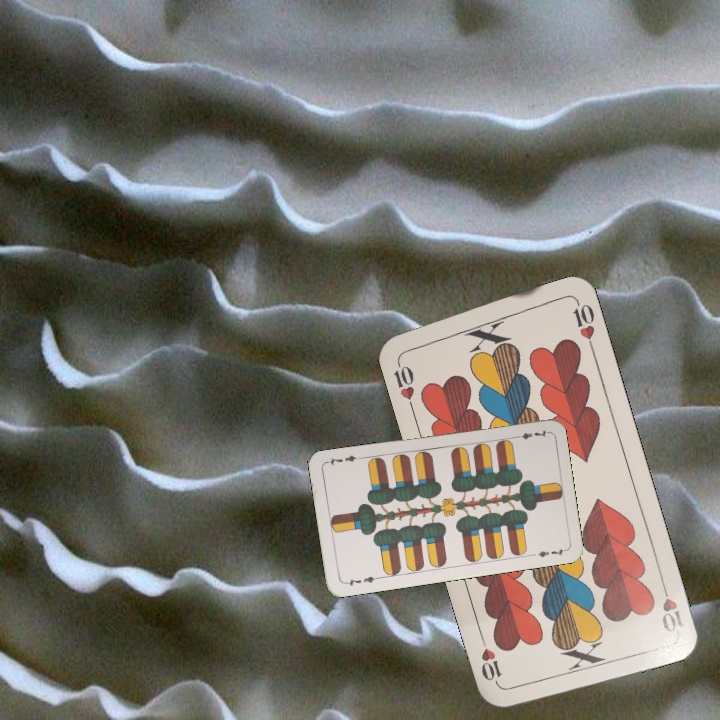E7: (340, 572, 381, 589), (509, 426, 550, 442)
H10: (657, 577, 687, 635), (389, 353, 417, 411)
